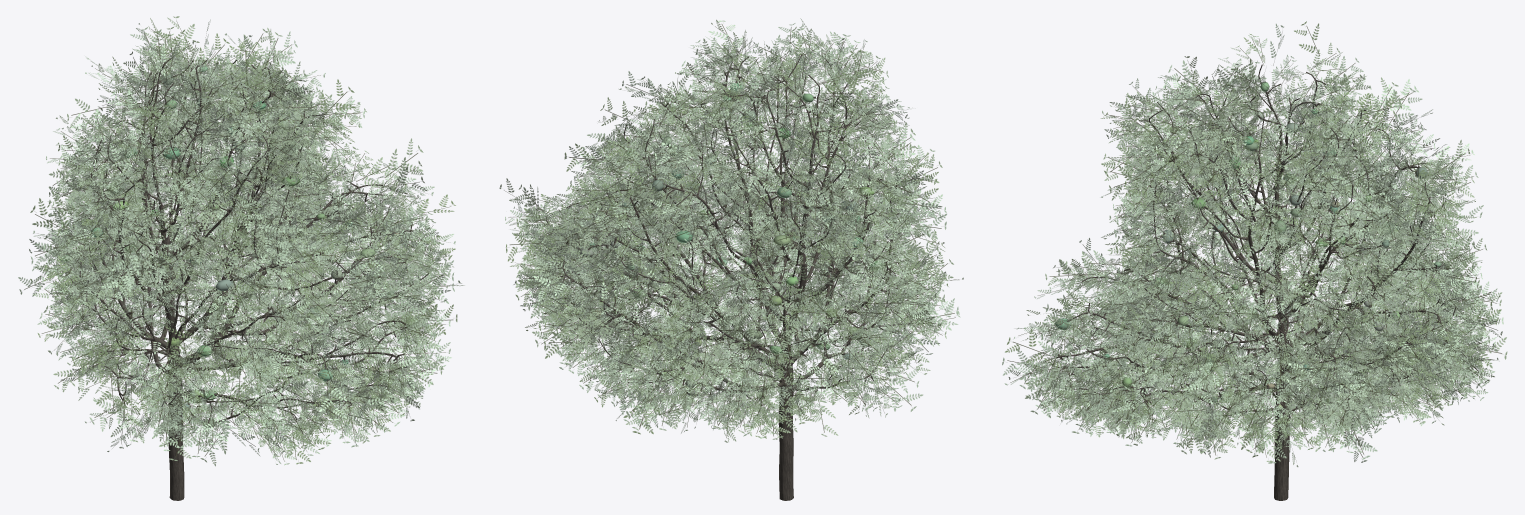
The model's file is tree_57_broadleaf.glb.
3 views of the same model, side by side, from view 1: azimuth 30°, elevation 25°; view 2: azimuth 150°, elevation 25°; view 3: azimuth 270°, elevation 25° (orthographic).
Visible parts, largest first — view 1: tree_57_broadleaf.leaves, tree_57_broadleaf.trunk_branches, tree_57_broadleaf.foliage_volume; view 2: tree_57_broadleaf.leaves, tree_57_broadleaf.trunk_branches, tree_57_broadleaf.foliage_volume; view 3: tree_57_broadleaf.leaves, tree_57_broadleaf.trunk_branches, tree_57_broadleaf.foliage_volume.
Boxes of the visible parts, <box> form: tree_57_broadleaf.leaves: <box>18,16,464,466</box>; tree_57_broadleaf.trunk_branches: <box>75,58,429,500</box>; tree_57_broadleaf.foliage_volume: <box>60,66,418,427</box>; tree_57_broadleaf.leaves: <box>499,18,963,442</box>; tree_57_broadleaf.trunk_branches: <box>545,54,913,500</box>; tree_57_broadleaf.foliage_volume: <box>573,83,884,395</box>; tree_57_broadleaf.leaves: <box>1002,21,1507,466</box>; tree_57_broadleaf.trunk_branches: <box>1052,64,1459,500</box>; tree_57_broadleaf.foliage_volume: <box>1055,82,1447,410</box>.
Bounding box in the file's own units: 13.78 × 15.24 × 14.88.
3 materials, 2 textured.
